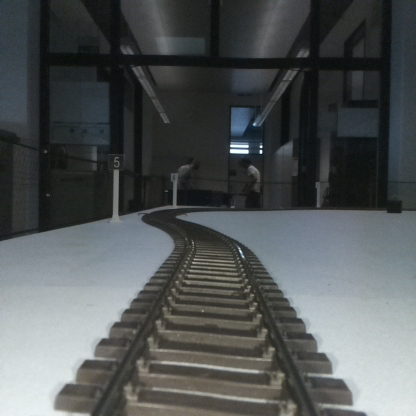black-info-5: (108, 153, 124, 222)
